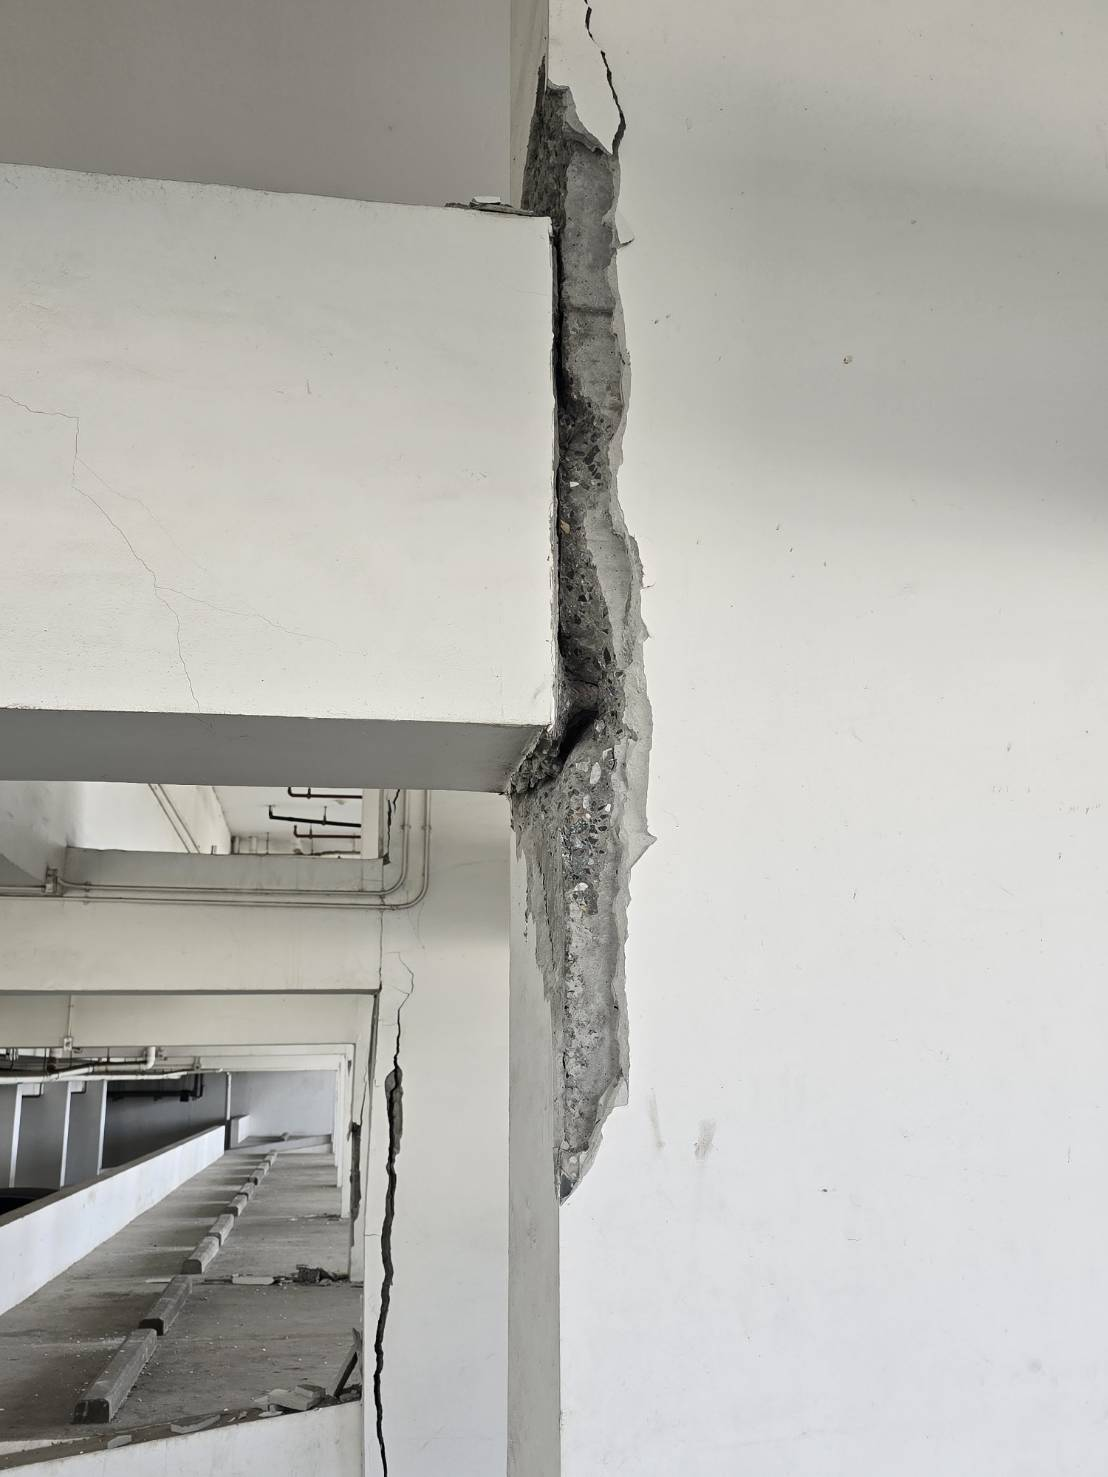High: (358, 1, 679, 1477)
